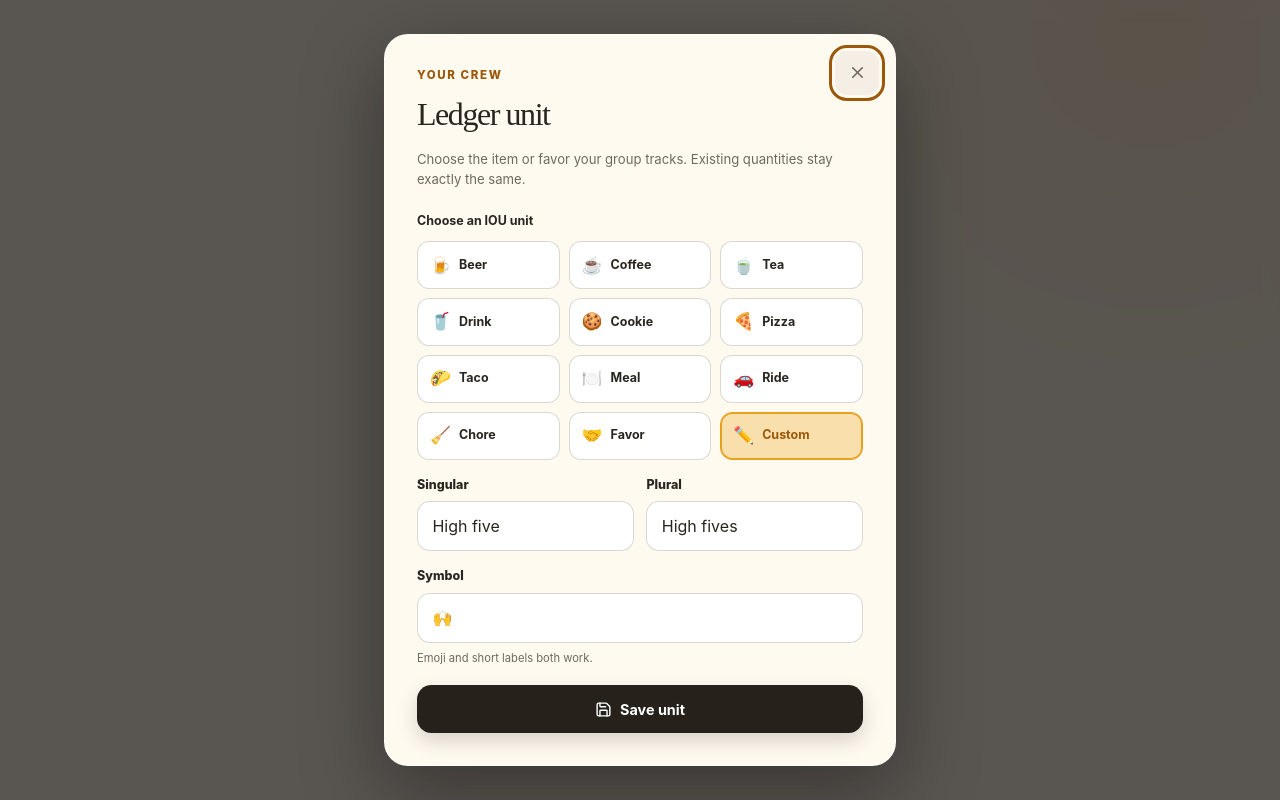
Test: GroupCurrencyDialog › keeps invalid currency values out of the mutation
Clear the field labelled "Singular": [525, 526] box [417,501,634,551]
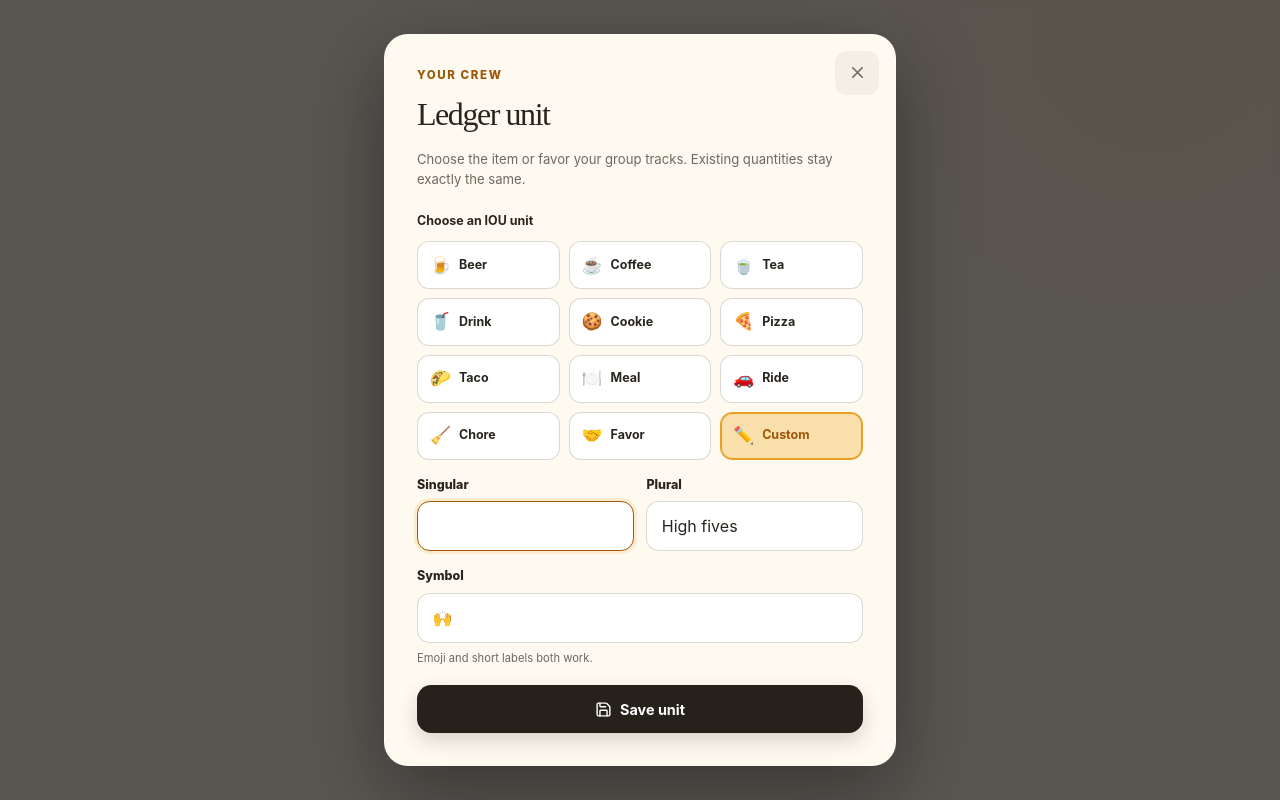
Click the button "Save unit": [640, 709] box [417,685,863,733]
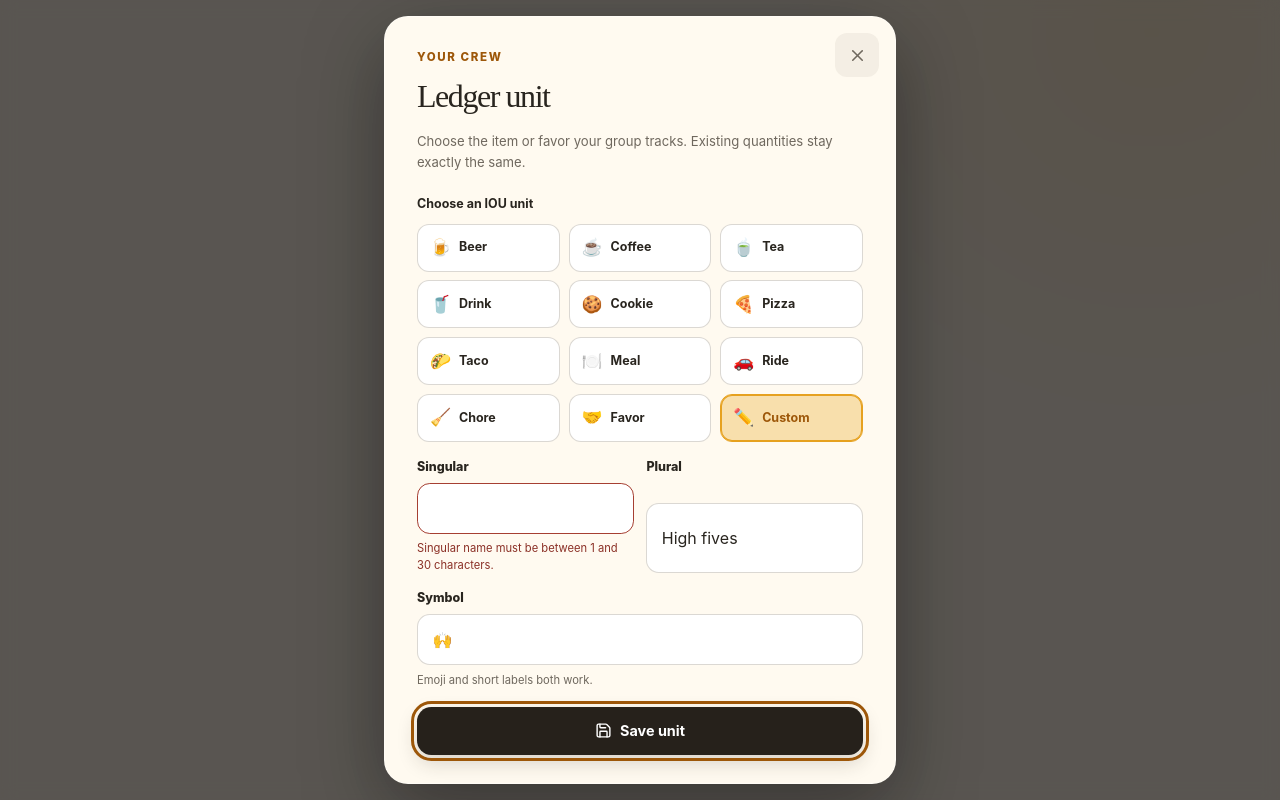
Expected: the text "Singular name must be between 1 and 30 characters." is shown, [417,540,634,573]
